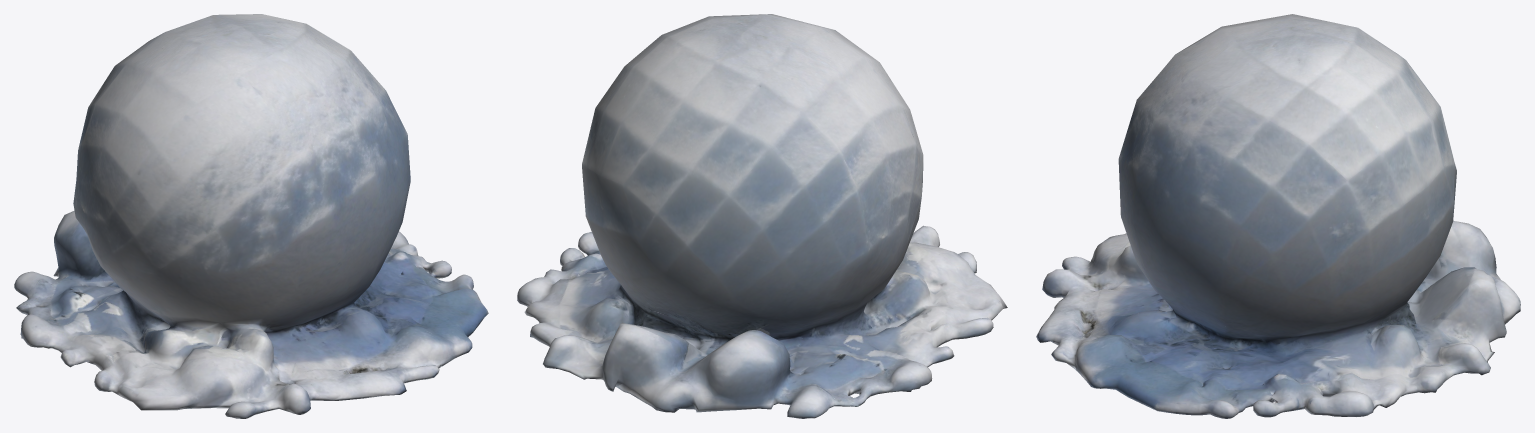
File: 13ecacbb-28aa-4b04-aedb-8fcafab1cf17.glb
3 views of the same model, side by side, from view 1: azimuth 30°, elevation 25°; view 2: azimuth 150°, elevation 25°; view 3: azimuth 270°, elevation 25° (orthographic). The views are drawn at different scales.
Bounding box in the file's own units: 1.9 × 1.31 × 1.99.
Materials: 1 (1 with a texture image).
